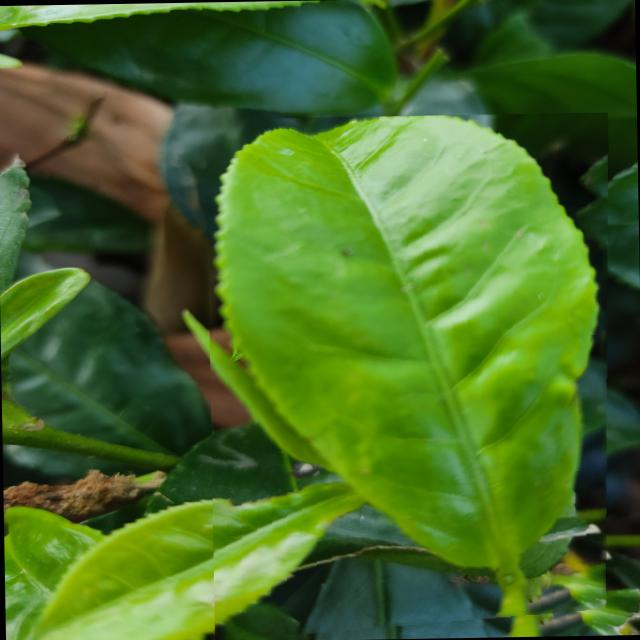Category B(2-4 days): (205, 112, 617, 640)
